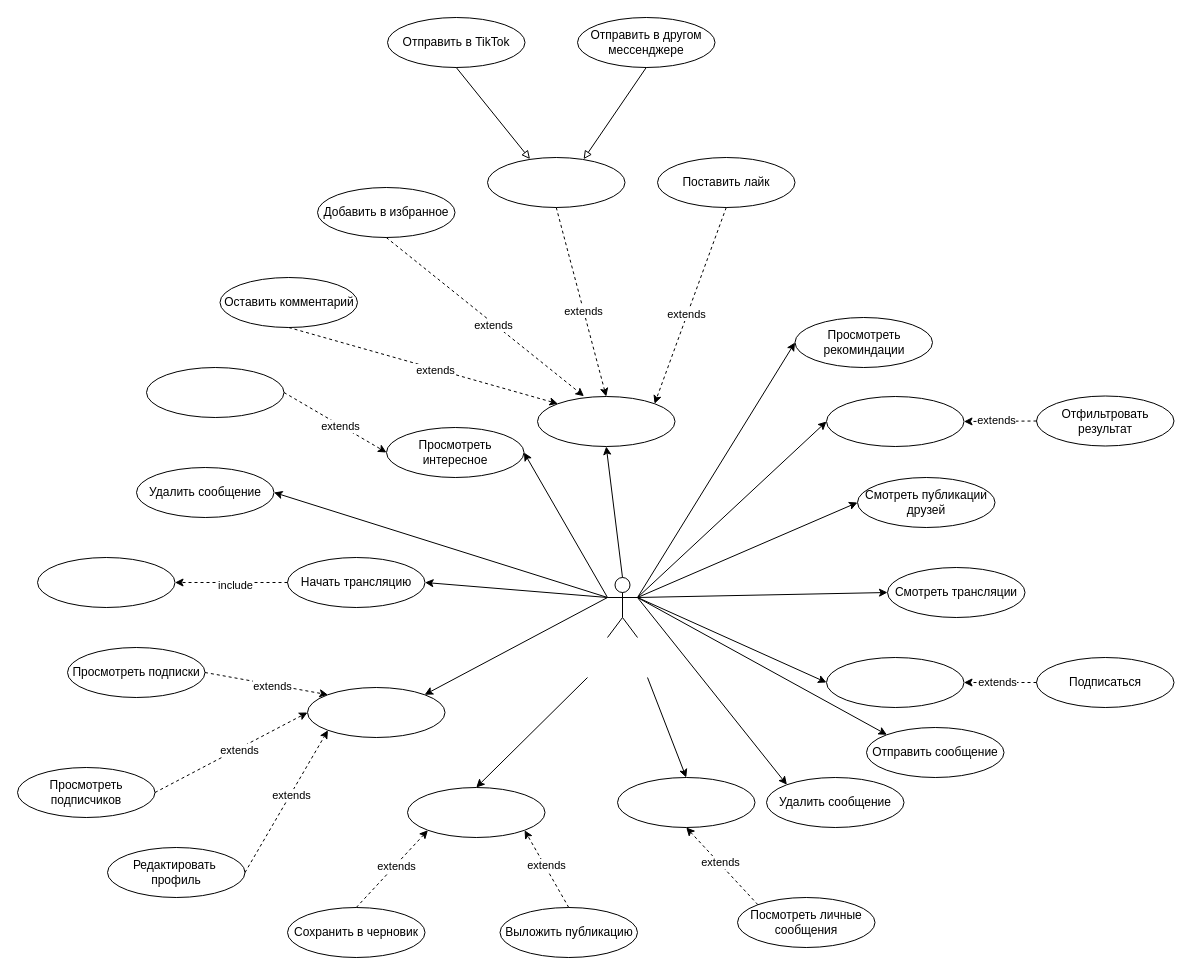
The diagram is 1192 pixels wide and 975 high, and some of its shapes have lost their labels. Each missing label, with the centre of its shape:
"Авторизованный Пользователь" goes at (x=622, y=607).
"Ввести название трансляции" goes at (x=105, y=582).
"Выбрать жанр" goes at (x=215, y=392).
"Найти видео" goes at (x=895, y=421).
"Поделиться" goes at (x=555, y=182).
"Посмотреть диалоги" goes at (x=685, y=802).
"Посмотреть профиль" goes at (x=895, y=682).
"Просмотреть свой профиль" goes at (x=375, y=712).
"Смотреть ролик" goes at (x=605, y=421).
"Создать публикацию" goes at (x=475, y=812).
